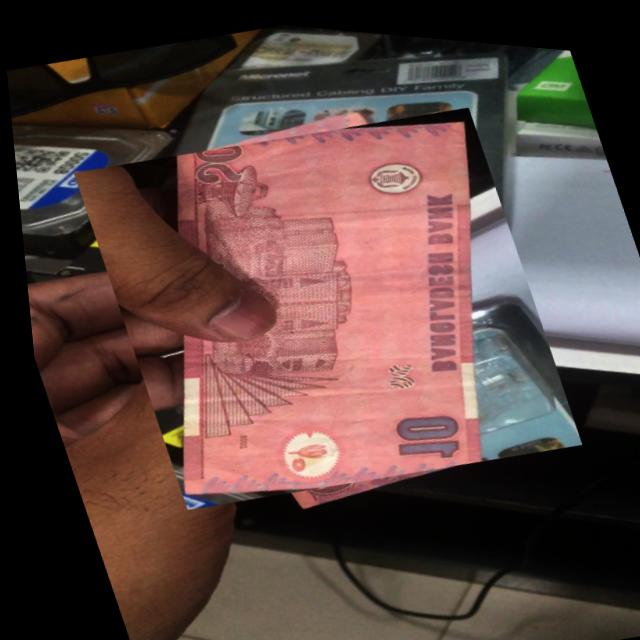Taka: (62, 70, 582, 535)
